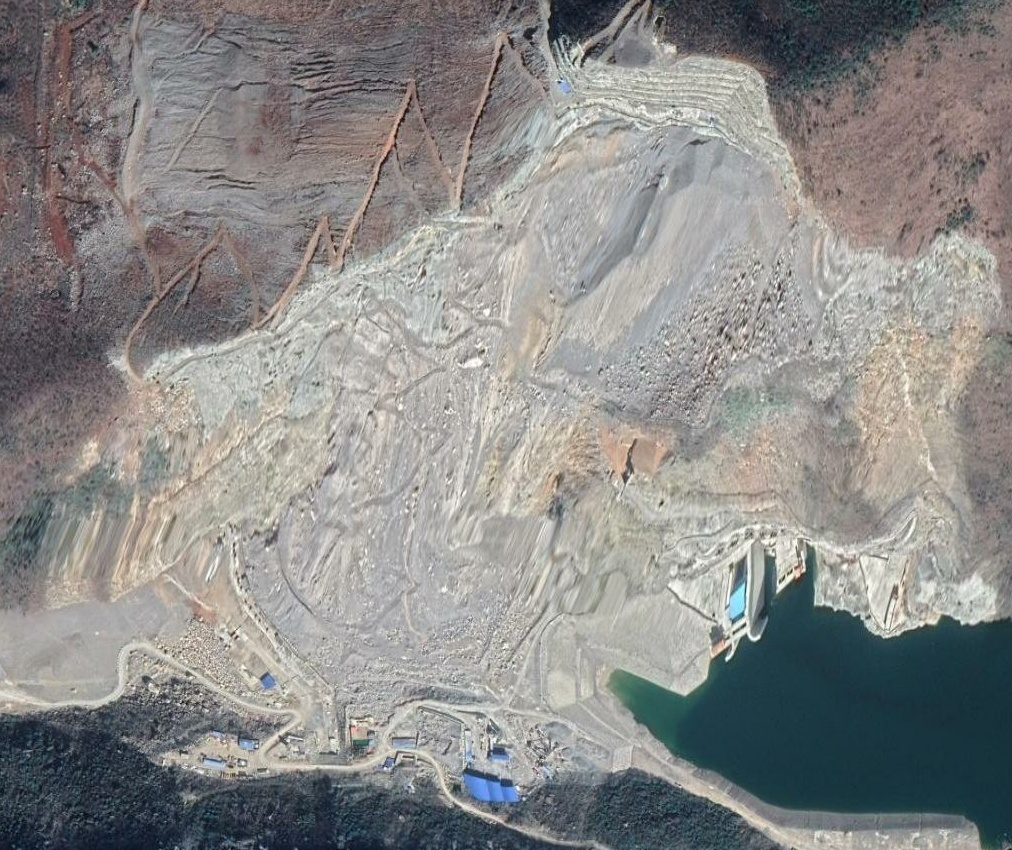slope: (39, 100, 1010, 707)
